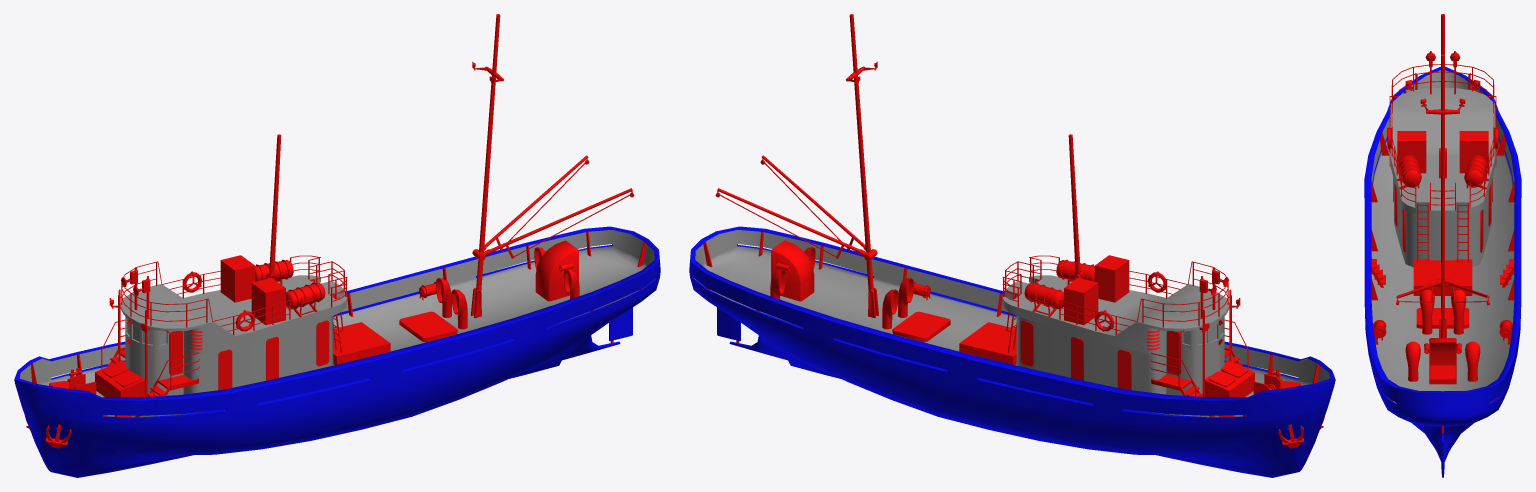
The model's file is boatlow.FBX.
The picture shows the model from 3 angles, left to right: view 1: azimuth 30°, elevation 25°; view 2: azimuth 150°, elevation 25°; view 3: azimuth 270°, elevation 25°; orthographic projection.
Parts seen in each view (by area): view 1: Object001, Object003, BOATLOW; view 2: Object001, Object003, BOATLOW; view 3: Object003, BOATLOW, Object001.
Boxes of the visible parts, x1,y1,x2,y2 form: Object001: (14, 226, 660, 477); Object003: (19, 230, 655, 417); BOATLOW: (25, 14, 646, 448); Object001: (689, 226, 1335, 477); Object003: (694, 230, 1330, 417); BOATLOW: (703, 14, 1324, 448); Object003: (1371, 70, 1514, 403); BOATLOW: (1371, 14, 1514, 432); Object001: (1364, 66, 1521, 477).
Size of the model in its own units: 1137 by 623 by 241.
